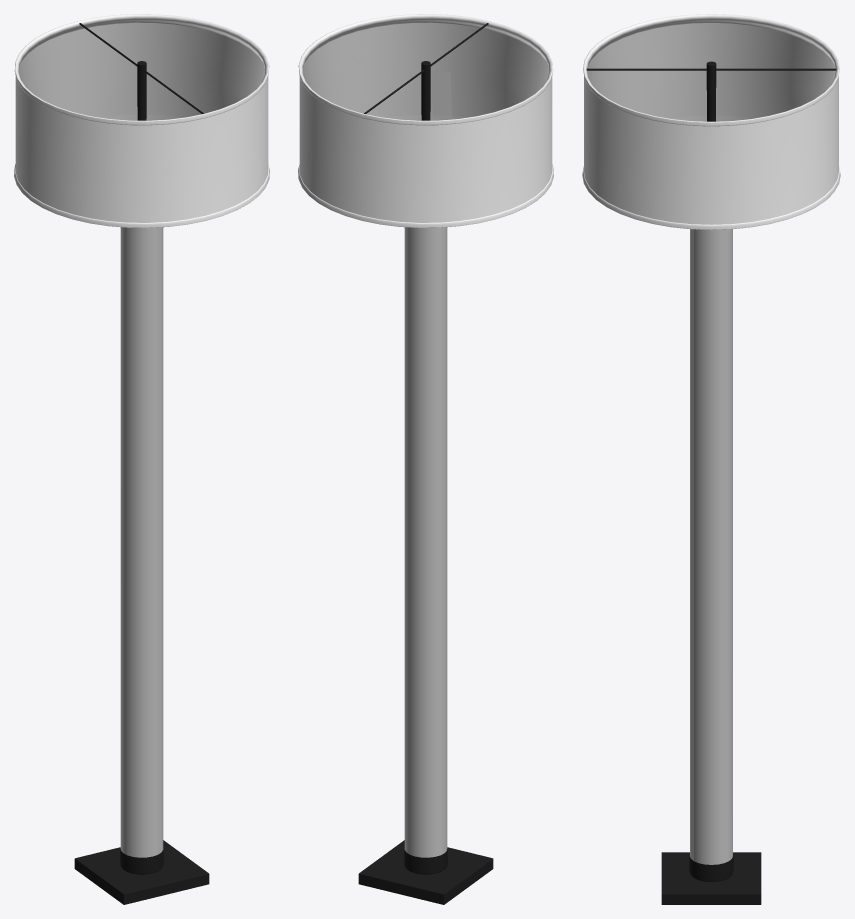
The picture shows the model from 3 angles, left to right: view 1: azimuth 30°, elevation 25°; view 2: azimuth 150°, elevation 25°; view 3: azimuth 270°, elevation 25°; orthographic projection.
Parts seen in each view (by area): view 1: "$AGAEMNKKMGBAAAAAICBAAAAAAAAAJJNLHOOE"; view 2: "$AGAEMNKKMGBAAAAAICBAAAAAAAAAJJNLHOOE"; view 3: "$AGAEMNKKMGBAAAAAICBAAAAAAAAAJJNLHOOE".
Boxes of the visible parts, x1,y1,x2,y2 form: "$AGAEMNKKMGBAAAAAICBAAAAAAAAAJJNLHOOE": [14, 14, 269, 904]; "$AGAEMNKKMGBAAAAAICBAAAAAAAAAJJNLHOOE": [298, 14, 553, 904]; "$AGAEMNKKMGBAAAAAICBAAAAAAAAAJJNLHOOE": [582, 14, 840, 904].
Size of the model in its own units: 0.4198 by 1.48 by 0.4198.
Materials: 1 (1 with a texture image).
